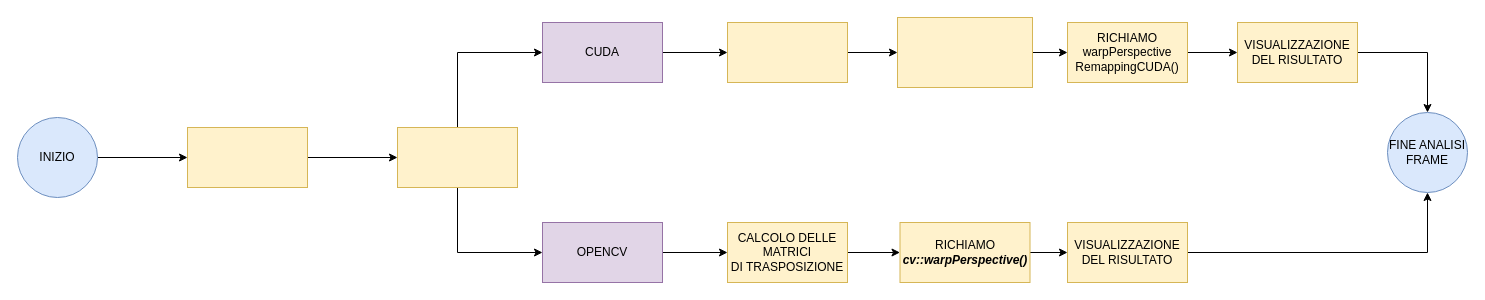
The diagram is 1485 pixels wide and 300 high, and some of its shapes have lost their labels. The centre of each missing label's shape, as x and y in pixels:
CALCOLO DELLE MATRICI DI TRASPOSIZIONE IN CUDA: the point at 787,52
CATTURA DEL FRAME: the point at 457,157
RICHIAMO CUDA_birdsEyeView(): the point at 964,52
SCELTA TIPO DI ALGORITMO DALLA LINEA DI COMANDO: the point at 247,157
